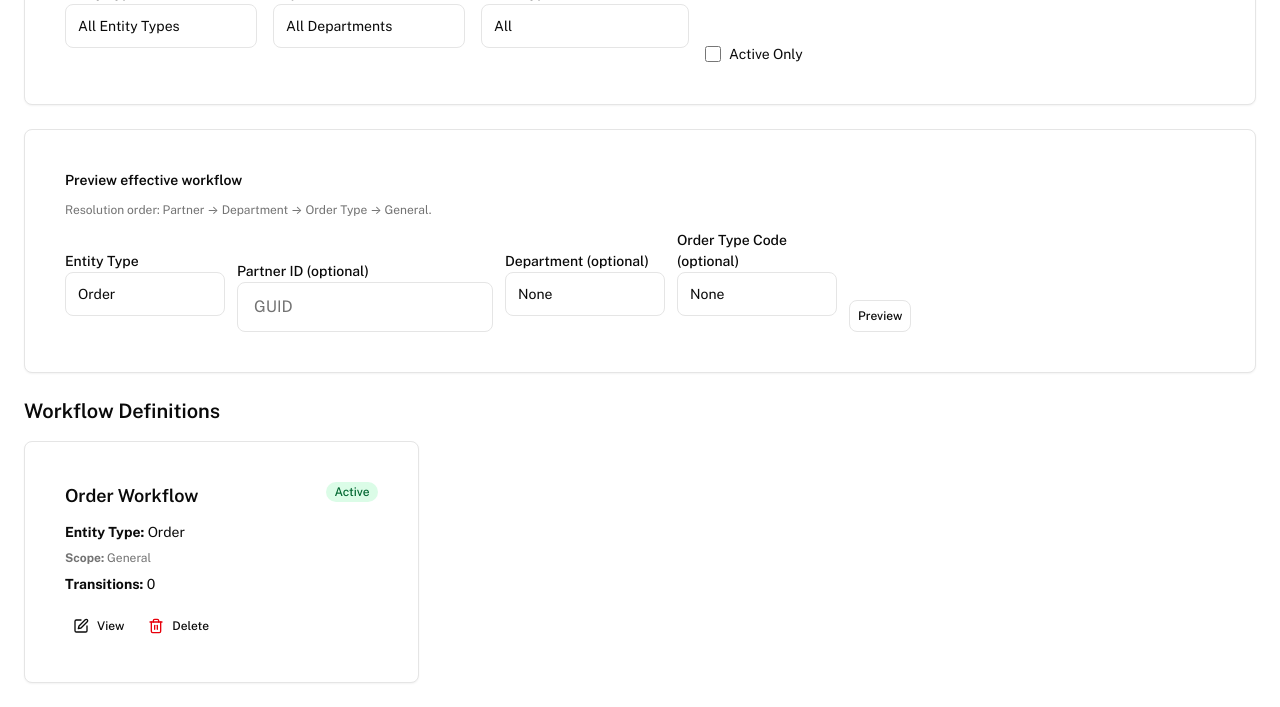
Scenario: WorkflowDefinitionsPage › Transitions Management › should view transitions list
The width and height of the screenshot is (1280, 707).
(page scrolled)
Expected: the heading "Order Workflow" is shown, [65,482,198,510]
Click the button "Order Workflow": (132, 496) [24,441,419,683]
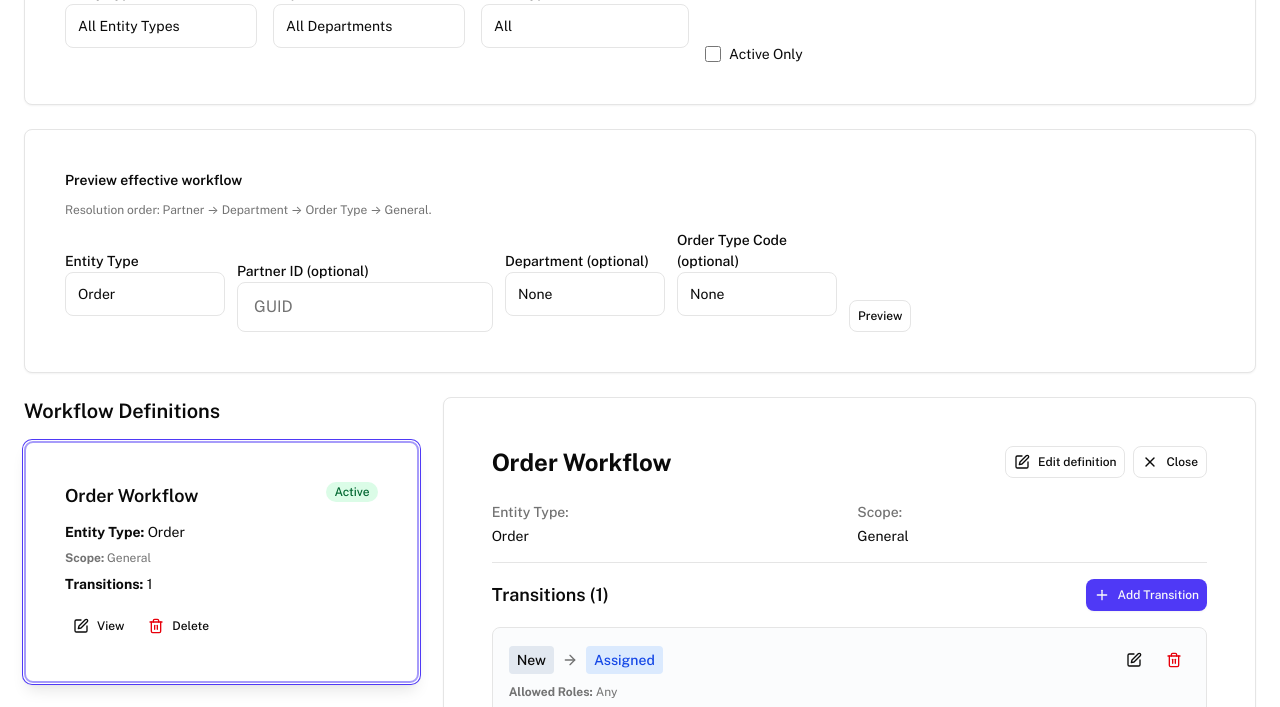
Now the text "Assigned" is shown, box [586,646,663,674]
